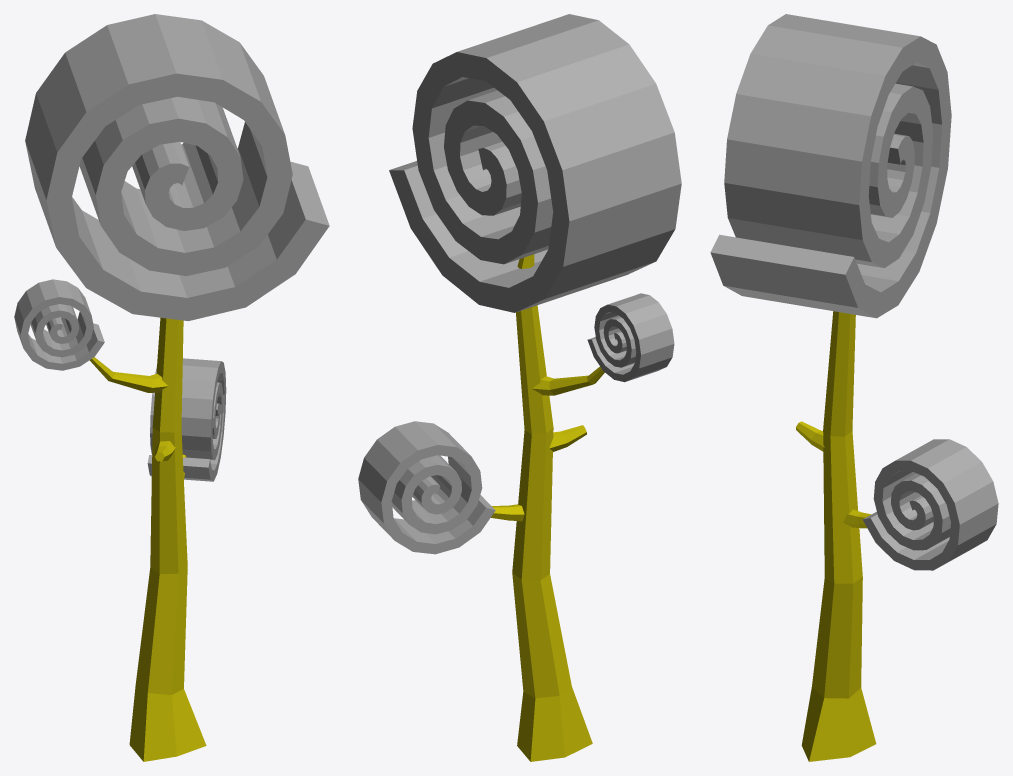
The model's file is tree.fbx.
3 renders of one model, left to right at view 1: azimuth 30°, elevation 25°; view 2: azimuth 150°, elevation 25°; view 3: azimuth 270°, elevation 25°, orthographic.
Parts seen in each view (by area): view 1: polySurface8; view 2: polySurface8; view 3: polySurface8.
Boxes of the visible parts, x1,y1,x2,y2 form: polySurface8: (14,14,329,761); polySurface8: (358,14,681,761); polySurface8: (710,14,998,761).
Size of the model in its own units: 1042 by 2440 by 896.
